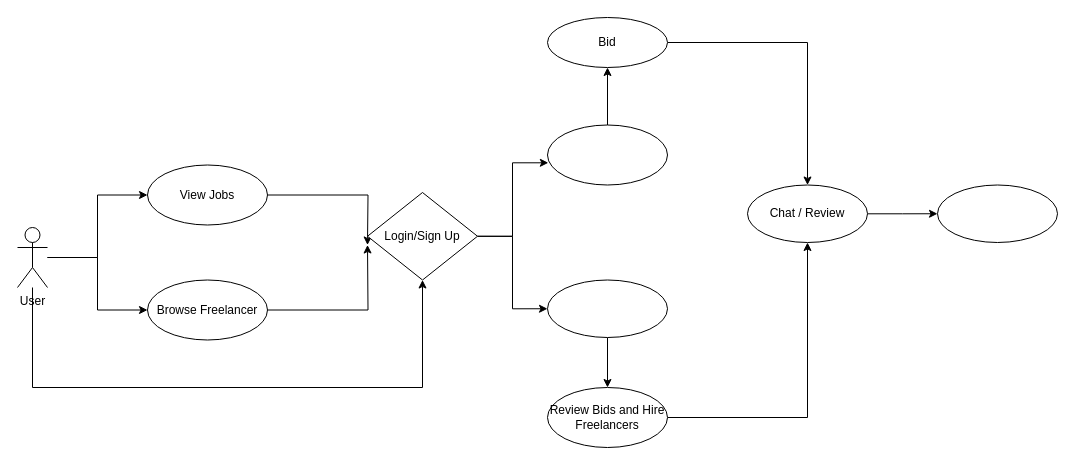
The diagram is 1075 pixels wide and 465 high, and some of its shapes have lost their labels. The box of each missing label's shape, as (x1, y1, x2, y2) in pixels:
Get Job: (546, 124, 668, 185)
Payment: (936, 184, 1058, 242)
Post Job: (546, 279, 668, 338)
